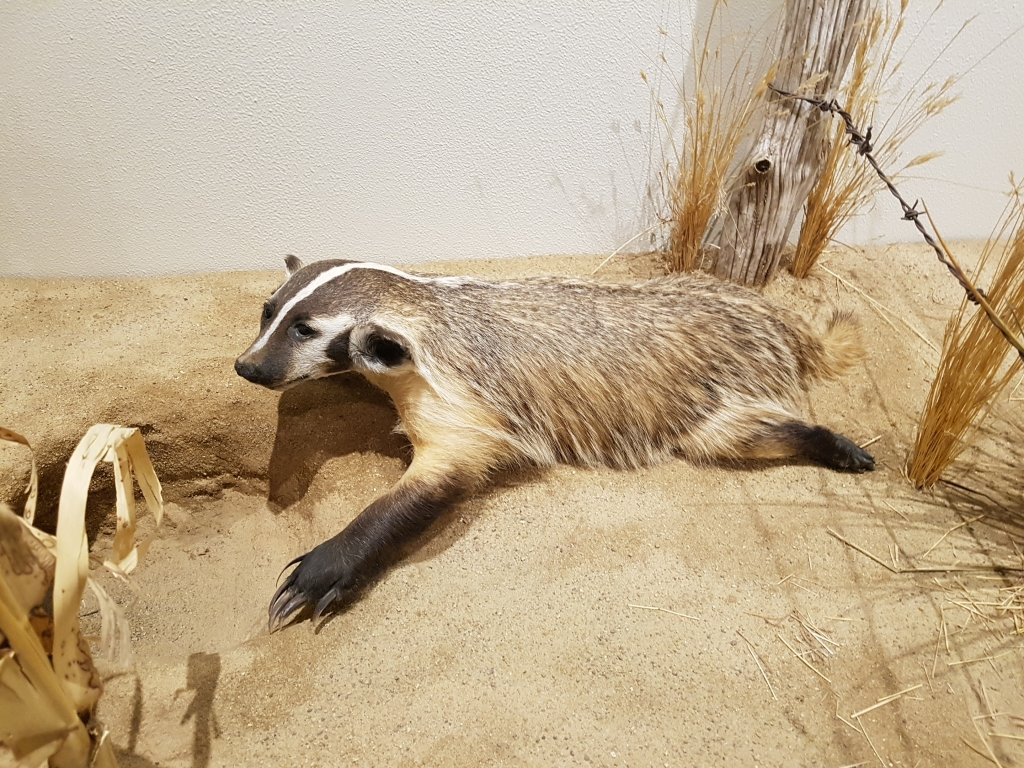badger: (237, 236, 877, 626)
